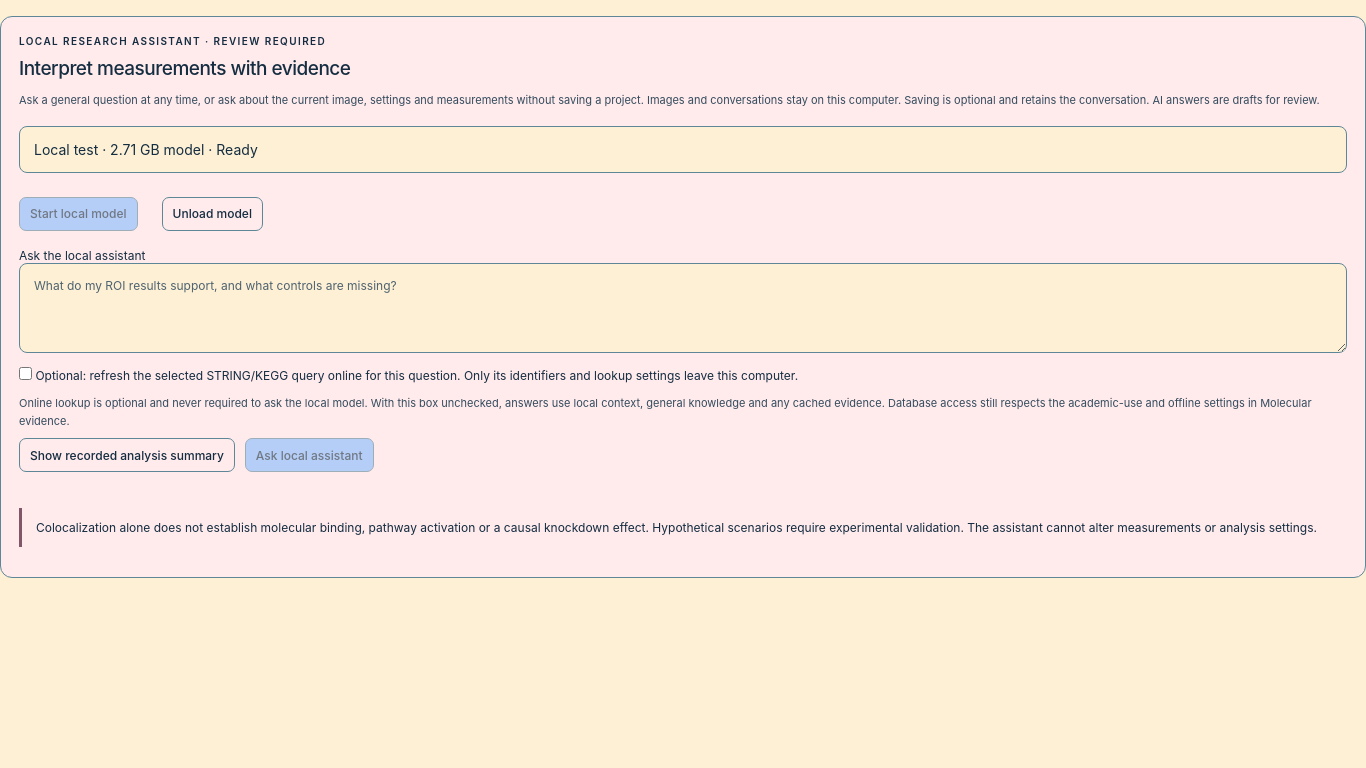
Test: sends local assistant requests with online permission off and retains the answer and tool record
The width and height of the screenshot is (1366, 768).
Expected: the text "Local test · 2.71 GB model · Ready" is shown, [19,126,1347,173]
Replace the text in the text box labelled "Ask the local assistant" with "What controls are missing?" at (683, 308), box [19,263,1347,353]
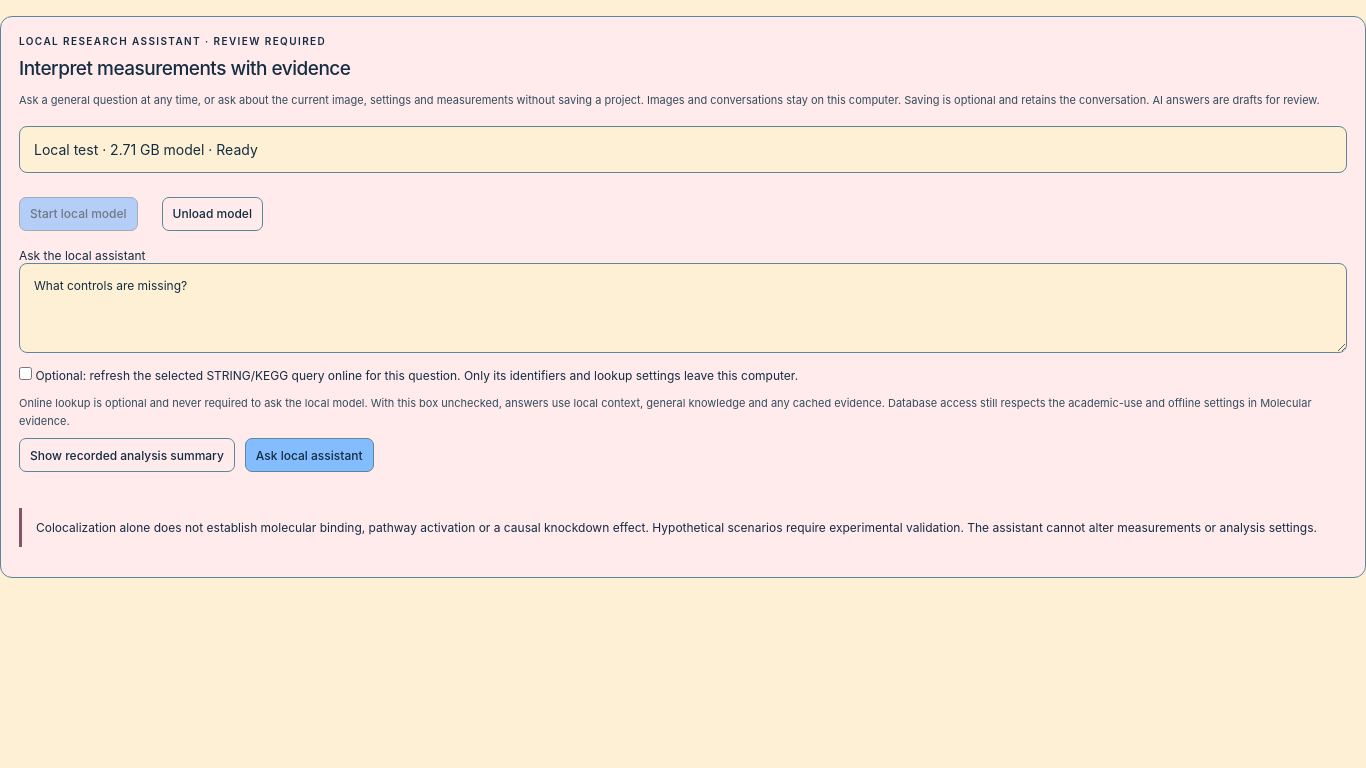
Click the button "Ask local assistant" at (309, 455), box [245,438,374,472]
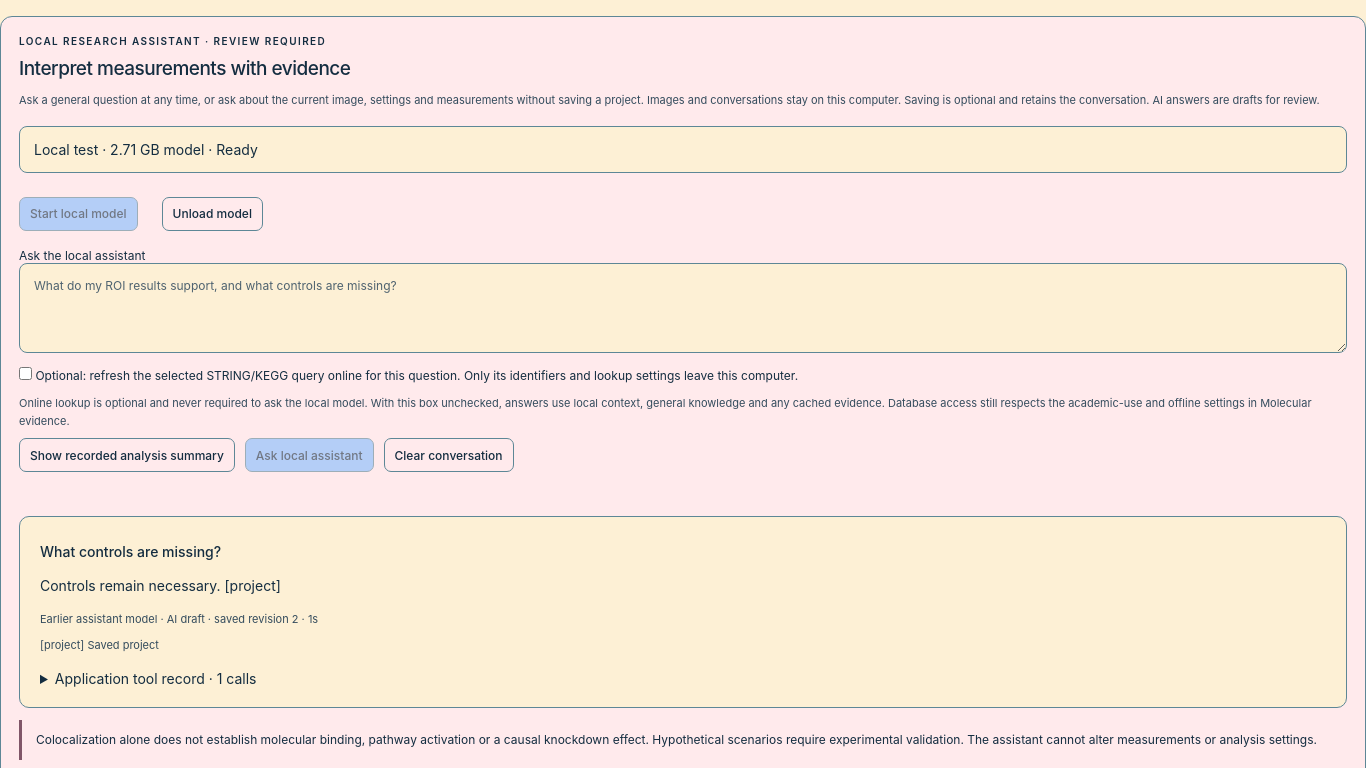
Now the text "Controls remain necessary. [project]" is shown, box [40,577,281,594]
Now the heading "Application tool record · 1 calls" is shown, box [55,670,256,688]
